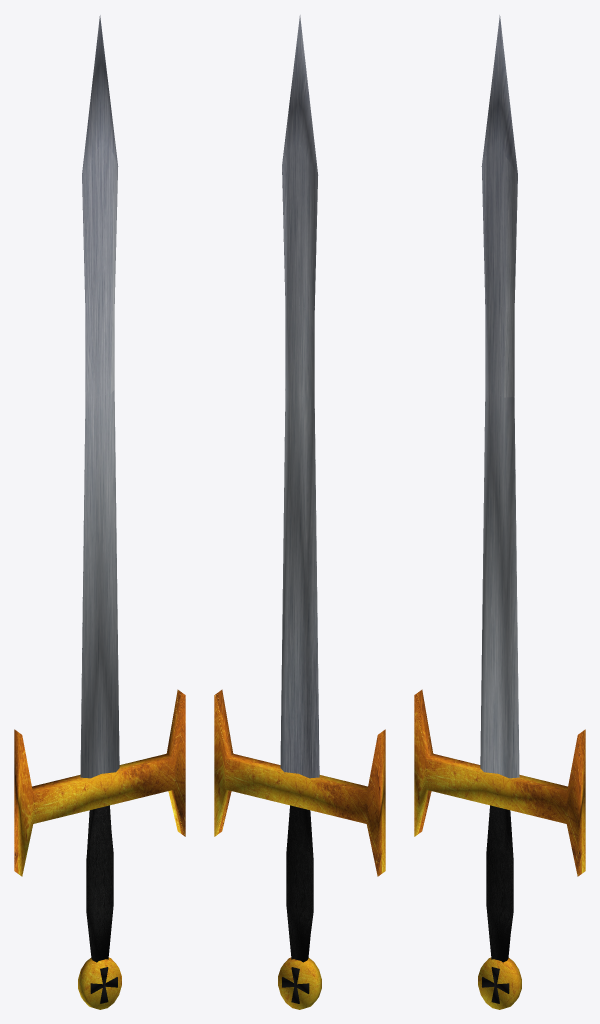
The model's file is Excalibur4.fbx.
3 renders of one model, left to right at view 1: azimuth 30°, elevation 25°; view 2: azimuth 150°, elevation 25°; view 3: azimuth 330°, elevation 25°, orthographic.
Visible parts, largest first — view 1: Plane; view 2: Plane; view 3: Plane.
Part boxes in pixels (x1,y1,x2,y2): Plane: (14, 15, 185, 1009); Plane: (214, 15, 385, 1009); Plane: (414, 15, 585, 1009).
Size of the model in its own units: 0.2384 by 1.39 by 0.0237.
3 materials, 3 textured.
